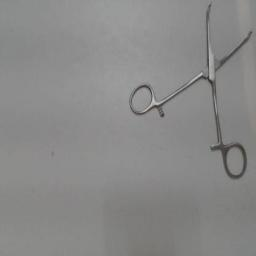Allis Tissue Forceps: (123, 0, 255, 182)
